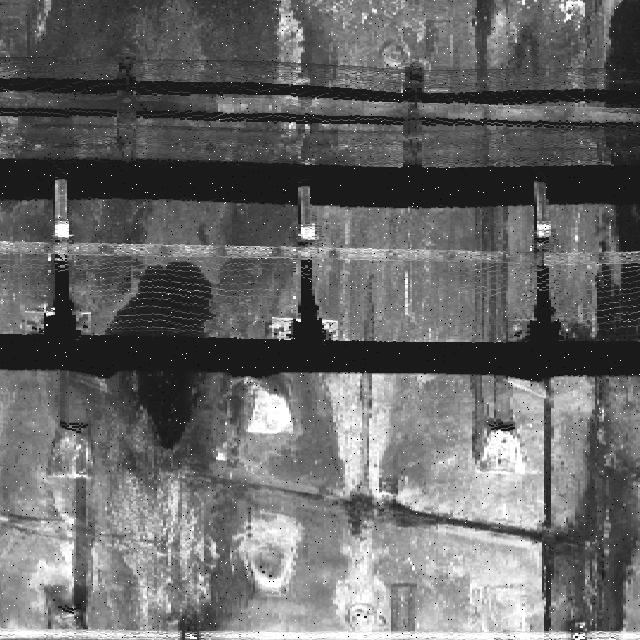leakage: (14, 5, 331, 483), (552, 385, 639, 632), (584, 1, 639, 348), (473, 1, 505, 438), (394, 62, 427, 172)
